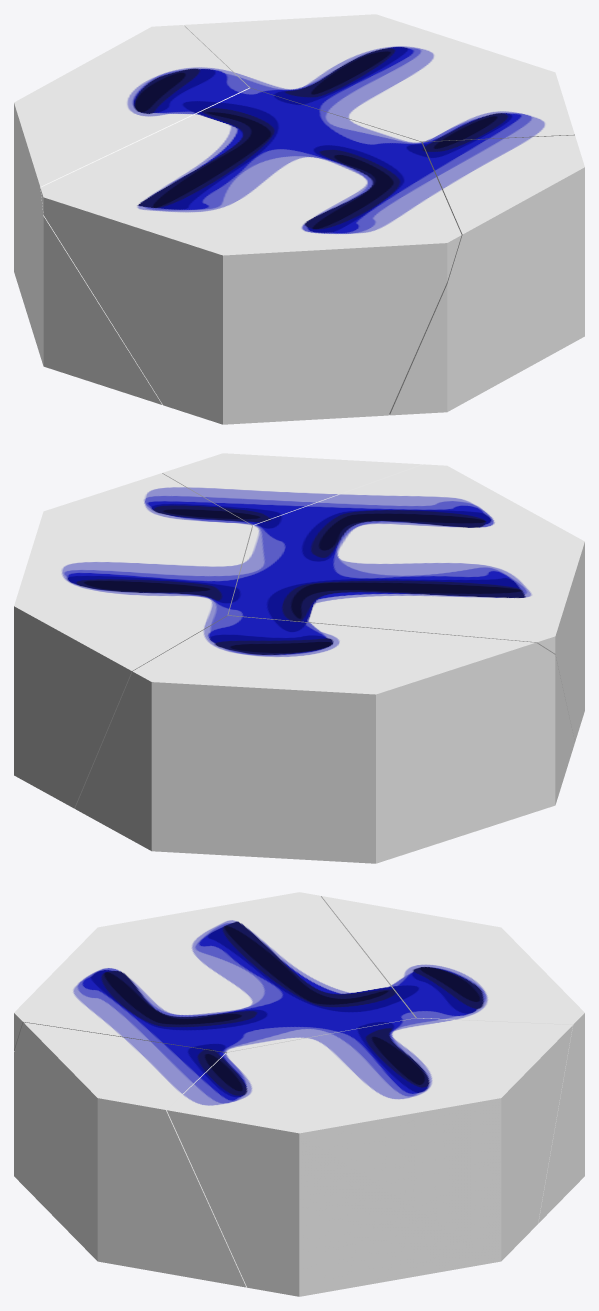
Rendered from 폭발장기_소.fbx.
3 renders of one model, top to bottom at view 1: azimuth 30°, elevation 25°; view 2: azimuth 150°, elevation 25°; view 3: azimuth 270°, elevation 25°, orthographic. The views are drawn at different scales.
Parts seen in each view (by area): view 1: Cylinder.001_cell.003, Cylinder.001_cell.001, Cylinder.001_cell.004, Cylinder.001_cell.002; view 2: Cylinder.001_cell.004, Cylinder.001_cell.003, Cylinder.001_cell.002, Cylinder.001_cell.001; view 3: Cylinder.001_cell.002, Cylinder.001_cell.003, Cylinder.001_cell.001, Cylinder.001_cell.004.
Boxes of the visible parts, x1,y1,x2,y2 form: Cylinder.001_cell.003: (40, 88, 461, 424); Cylinder.001_cell.001: (389, 135, 584, 415); Cylinder.001_cell.004: (14, 25, 249, 404); Cylinder.001_cell.002: (184, 14, 574, 142); Cylinder.001_cell.004: (75, 615, 574, 863); Cylinder.001_cell.003: (228, 464, 584, 741); Cylinder.001_cell.002: (14, 473, 252, 808); Cylinder.001_cell.001: (162, 453, 422, 530); Cylinder.001_cell.002: (167, 1018, 572, 1296); Cylinder.001_cell.003: (14, 892, 415, 1052); Cylinder.001_cell.001: (14, 1022, 246, 1287); Cylinder.001_cell.004: (321, 896, 584, 1223).
Bounding box in the file's own units: 129 × 40.76 × 129.
